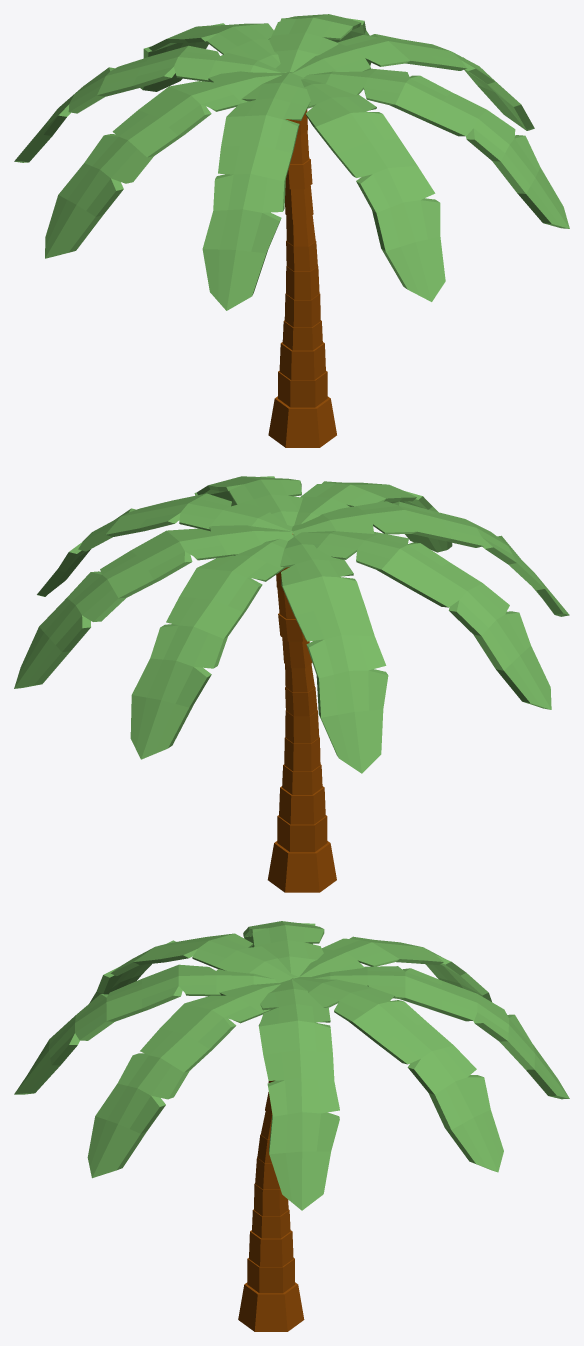
Rendered from PalmTree.fbx.
The picture shows the model from 3 angles, top to bottom: view 1: azimuth 30°, elevation 25°; view 2: azimuth 150°, elevation 25°; view 3: azimuth 270°, elevation 25°; orthographic projection. The views are drawn at different scales.
Visible parts, largest first — view 1: Cylinder; view 2: Cylinder; view 3: Cylinder.
Boxes of the visible parts, x1,y1,x2,y2 form: Cylinder: (14, 14, 569, 447); Cylinder: (14, 476, 569, 892); Cylinder: (14, 921, 569, 1331).
Bounding box in the file's own units: 1679 × 1159 × 1680.
